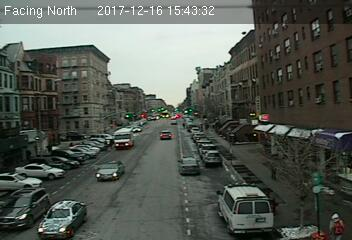car: (1, 184, 50, 228), (37, 199, 89, 240), (95, 160, 125, 180), (178, 156, 201, 177), (203, 150, 223, 166), (158, 129, 174, 139)
police: (217, 180, 277, 236)
truck: (112, 127, 136, 150)
